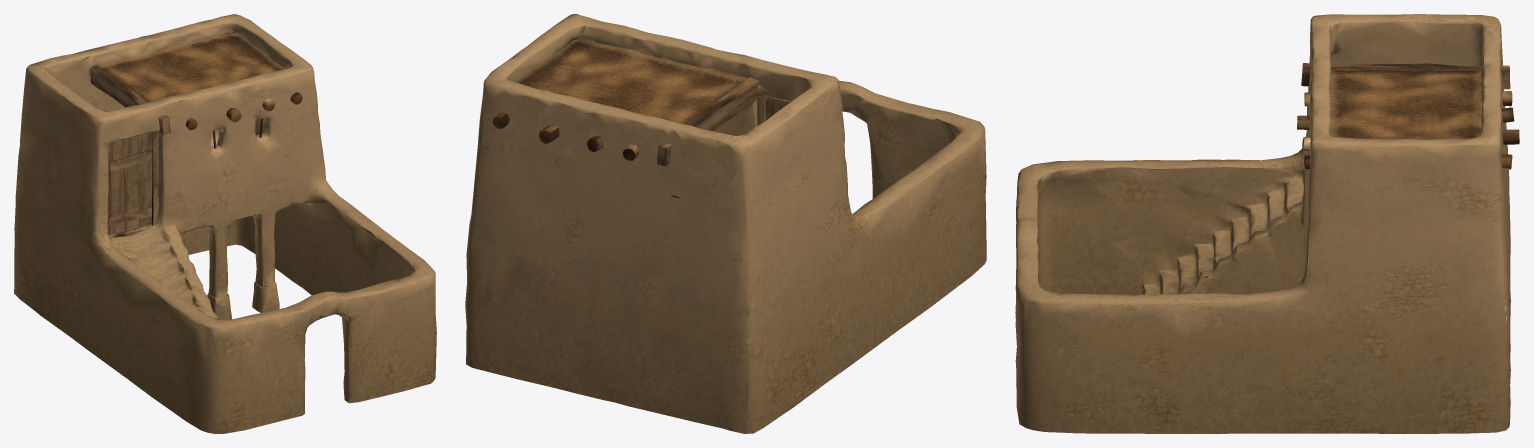
File: house2.glb
The picture shows the model from 3 angles, left to right: view 1: azimuth 30°, elevation 25°; view 2: azimuth 150°, elevation 25°; view 3: azimuth 270°, elevation 25°; orthographic projection. The views are drawn at different scales.
Parts seen in each view (by area): view 1: Door-1; view 2: Door-1; view 3: Door-1.
Boxes of the visible parts, box(x1,y1,x2,y2) form: Door-1: box(14, 14, 436, 433); Door-1: box(465, 14, 986, 433); Door-1: box(1015, 14, 1519, 433).
Size of the model in its own units: 5.81 by 5.3 by 8.56.
1 material, 1 textured.
